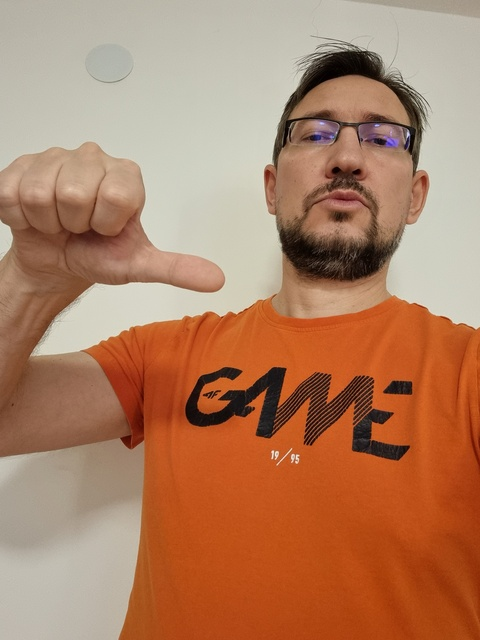GestBack: (2, 143, 227, 294)
